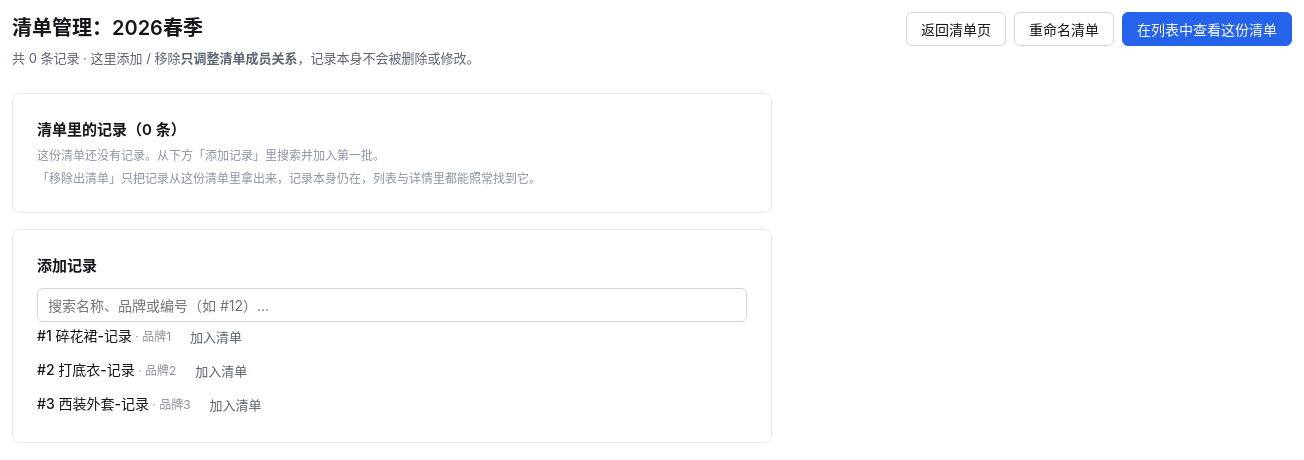
Test: v6.6（需求 1）：清单管理视图 › 支持按 #编号 搜索候选
The width and height of the screenshot is (1304, 460).
In the field with test id "iw-plan-add-search": coordinates (392, 305) [37,288,747,322], type "#2"
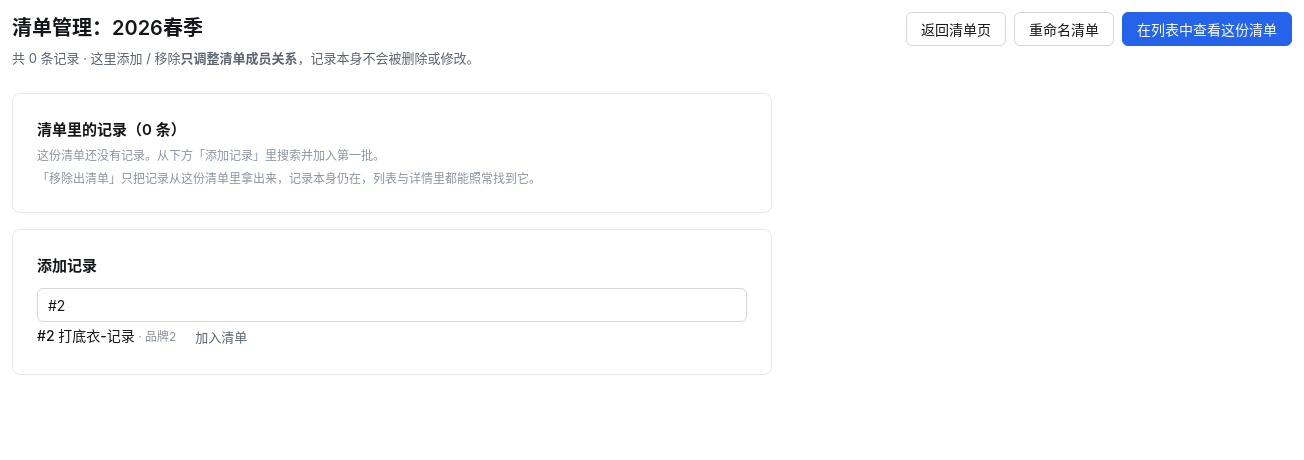
expect the element with test id "iw-plan-candidate-2" is shown: met, box [37,322,258,350]
expect the element with test id "iw-plan-candidate-1" is gone: met
